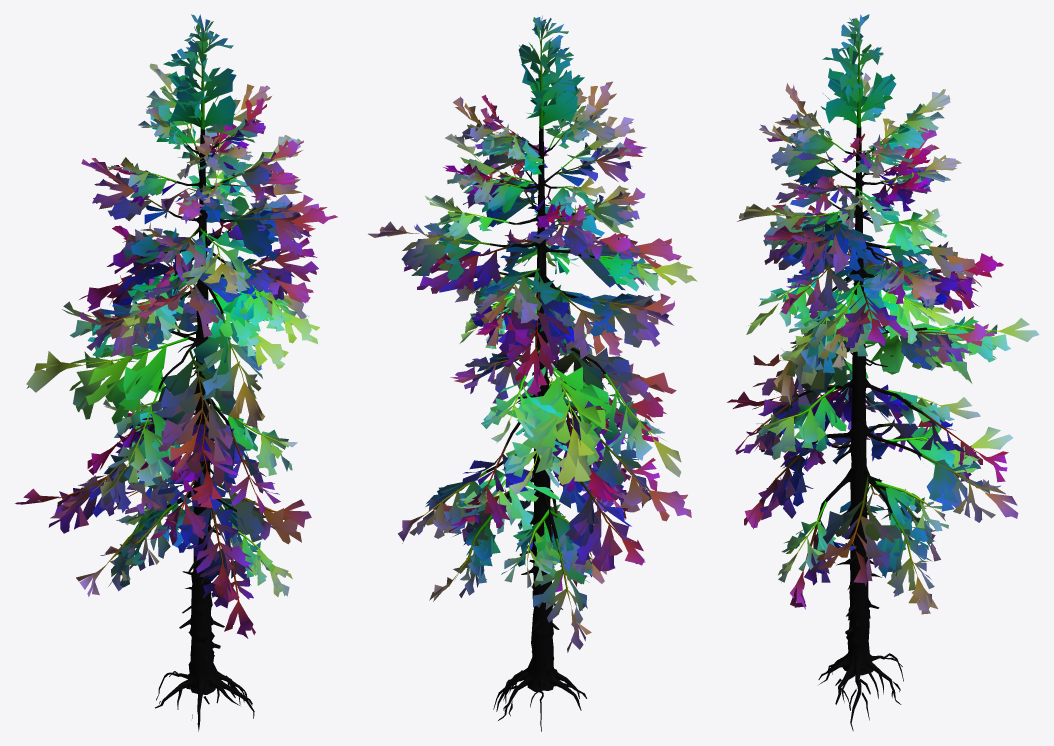
File: SM_SilverFir_L_01.fbx
3 renders of one model, left to right at view 1: azimuth 30°, elevation 25°; view 2: azimuth 150°, elevation 25°; view 3: azimuth 270°, elevation 25°, orthographic. The views are drawn at different scales.
Visible parts, largest first — view 1: SM_SilverFir_L_01_LOD0; view 2: SM_SilverFir_L_01_LOD0; view 3: SM_SilverFir_L_01_LOD0.
Boxes of the visible parts, x1,y1,x2,y2 form: SM_SilverFir_L_01_LOD0: [15, 14, 337, 731]; SM_SilverFir_L_01_LOD0: [368, 15, 697, 731]; SM_SilverFir_L_01_LOD0: [727, 14, 1039, 731].
Size of the model in its own units: 1188 by 1149 by 2811.
